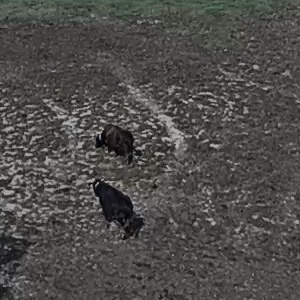cow: (79, 176, 159, 240), (80, 109, 150, 171)
